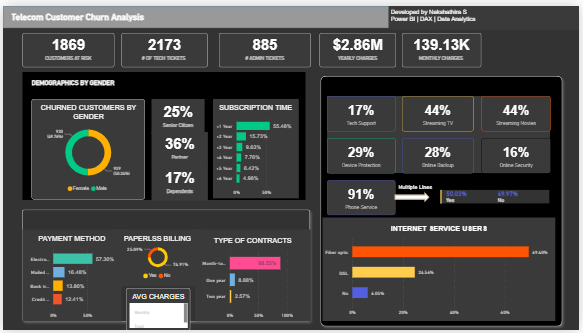

The page's visual inventory and layout, read from the dashboard file:
{"tool":"powerbi","page":{"name":"Customer Overview","canvas":[1280,720],"ordinal":0},"visuals":[{"type":"shape","box":[0,0,1280,49],"z":0},{"type":"card","fields":{"Values":["Churn.% Tech Support"]},"box":[720,199,152.4,78.4],"z":0,"group":"g2"},{"type":"shape","box":[696.7,146.3,555.1,574.2],"z":1000},{"type":"card","fields":{"Values":["Churn.% Streaming TV"]},"box":[887.4,199,159.5,78.4],"z":1000,"group":"g2"},{"type":"donutChart","title":"CHURNED CUSTOMERS BY GENDER","fields":{"Category":["01 Churn-Dataset.gender"],"Y":["CountNonNull(01 Churn-Dataset.gender)"]},"box":[61.3,204.7,252.2,223.4],"z":1000,"group":"g1"},{"type":"textbox","box":[12,8,438,33],"z":2000},{"type":"textbox","box":[42.9,146.3,630.9,47.3],"z":2000,"group":"g1"},{"type":"card","fields":{"Values":["Churn.% Streaming Movies"]},"box":[1062.8,199,154.2,78.4],"z":2000,"group":"g2"},{"type":"card","fields":{"Values":["Churn.% of Senior Citizen"]},"box":[330.8,204.7,118,77.5],"z":3000,"group":"g1"},{"type":"card","fields":{"Values":["Churn.% Device Protection"]},"box":[720,291.6,152.4,78.4],"z":3000,"group":"g2"},{"type":"shape","box":[34,444,658,267],"z":3000},{"type":"card","fields":{"Values":["CountNonNull(01 Churn-Dataset.customerID)"]},"box":[44,60,204,76],"z":4000},{"type":"card","fields":{"Values":["Churn.% of partner"]},"box":[329.7,279.1,125.5,74.5],"z":4000,"group":"g1"},{"type":"card","fields":{"Values":["Churn.% Online Backup"]},"box":[887.4,291.6,159.5,78.4],"z":4000,"group":"g2"},{"type":"card","fields":{"Values":["Churn.% Online Sec"]},"box":[1062.8,291.6,154.2,78.4],"z":5000,"group":"g2"},{"type":"card","fields":{"Values":["Churn.% Phone Service"]},"box":[720,385,152,78],"z":5000},{"type":"card","fields":{"Values":["Sum(01 Churn-Dataset.numTechTickets)"]},"box":[264,60,191,76],"z":6000},{"type":"card","fields":{"Values":["Churn.% of Dependents"]},"box":[329.7,351.6,125.5,79.5],"z":6000,"group":"g1"},{"type":"clusteredBarChart","title":"SUBSCRIPTION TIME","fields":{"Y":["CountNonNull(Churn.Churn)"],"Category":["Churn.Tenure(in years)"]},"box":[467.1,204.7,190.5,220.4],"z":7000,"group":"g1"},{"type":"clusteredBarChart","title":"PAYMENT METHOD","fields":{"Y":["CountNonNull(Churn.PaymentMethod)"],"Category":["Churn.PaymentMethod"]},"box":[44,497,220,204],"z":7000},{"type":"card","fields":{"Values":["Sum(01 Churn-Dataset.TotalCharges)"]},"box":[702,60,170,76],"z":8000},{"type":"card","fields":{"Values":["Sum(01 Churn-Dataset.numAdminTickets)"]},"box":[479,60,204,76],"z":9000},{"type":"group","id":"g1","title":"Group 1","box":[42.9,146.3,629.9,284.7],"z":10000},{"type":"card","fields":{"Values":["Sum(01 Churn-Dataset.MonthlyCharges)"]},"box":[887,60,176,76],"z":11000},{"type":"donutChart","title":"PAPERLSS BILLING","fields":{"Category":["Churn.PaperlessBilling"],"Y":["CountNonNull(Churn.PaperlessBilling)"]},"box":[248,497,194,126],"z":12000},{"type":"multiRowCard","title":"AVG CHARGES","fields":{"Values":["Avg(Churn.MonthlyCharges)","Avg(Churn.TotalCharges)"]},"box":[272.5,625,142.5,95],"z":13000},{"type":"clusteredBarChart","title":"TYPE OF CONTRACTS","fields":{"Category":["Churn.Contract"],"Y":["CountNonNull(Churn.Contract)"]},"box":[426,497,257,204],"z":14000},{"type":"group","id":"g2","title":"Group 3","box":[720,199,497,171],"z":15000},{"type":"shape","box":[871,412,78,23],"z":16000},{"type":"textbox","box":[872,391,300,30],"z":17000},{"type":"multiRowCard","fields":{"Values":["Churn.% Yes-Multiple Lines","Churn.% No-Multiple Lines"]},"box":[965,404,252,53],"z":18000},{"type":"barChart","title":"INTERNET SERVICE USERS","fields":{"Y":["CountNonNull(Churn.InternetService)"],"Category":["Churn.InternetService"]},"box":[710,471,517,230],"z":19000},{"type":"textbox","box":[855,0,425,52.5],"z":20000}]}

Visuals, with their boxes in screenshot pixels (x1, y1, x2, y2), scaled from the page's 1280x720 canvas onto the 583x333 screenshot:
shape: bbox=[0, 0, 582, 23]
card - Churn.% Tech Support: bbox=[328, 92, 397, 128]
shape: bbox=[317, 68, 570, 332]
card - Churn.% Streaming TV: bbox=[404, 92, 477, 128]
"CHURNED CUSTOMERS BY GENDER" donutChart: bbox=[28, 95, 143, 198]
textbox: bbox=[5, 4, 205, 19]
textbox: bbox=[20, 68, 307, 90]
card - Churn.% Streaming Movies: bbox=[484, 92, 554, 128]
card - Churn.% of Senior Citizen: bbox=[151, 95, 204, 131]
card - Churn.% Device Protection: bbox=[328, 135, 397, 171]
shape: bbox=[15, 205, 315, 329]
card - CountNonNull(01 Churn-Dataset.customerID): bbox=[20, 28, 113, 63]
card - Churn.% of partner: bbox=[150, 129, 207, 164]
card - Churn.% Online Backup: bbox=[404, 135, 477, 171]
card - Churn.% Online Sec: bbox=[484, 135, 554, 171]
card - Churn.% Phone Service: bbox=[328, 178, 397, 214]
card - Sum(01 Churn-Dataset.numTechTickets): bbox=[120, 28, 207, 63]
card - Churn.% of Dependents: bbox=[150, 163, 207, 199]
"SUBSCRIPTION TIME" clusteredBarChart: bbox=[213, 95, 300, 197]
"PAYMENT METHOD" clusteredBarChart: bbox=[20, 230, 120, 324]
card - Sum(01 Churn-Dataset.TotalCharges): bbox=[320, 28, 397, 63]
card - Sum(01 Churn-Dataset.numAdminTickets): bbox=[218, 28, 311, 63]
"Group 1" group: bbox=[20, 68, 306, 199]
card - Sum(01 Churn-Dataset.MonthlyCharges): bbox=[404, 28, 484, 63]
"PAPERLSS BILLING" donutChart: bbox=[113, 230, 201, 288]
"AVG CHARGES" multiRowCard: bbox=[124, 289, 189, 332]
"TYPE OF CONTRACTS" clusteredBarChart: bbox=[194, 230, 311, 324]
"Group 3" group: bbox=[328, 92, 554, 171]
shape: bbox=[397, 191, 432, 201]
textbox: bbox=[397, 181, 534, 195]
multiRowCard - Churn.% Yes-Multiple Lines x Churn.% No-Multiple Lines: bbox=[440, 187, 554, 211]
"INTERNET SERVICE USERS" barChart: bbox=[323, 218, 559, 324]
textbox: bbox=[389, 0, 582, 24]
